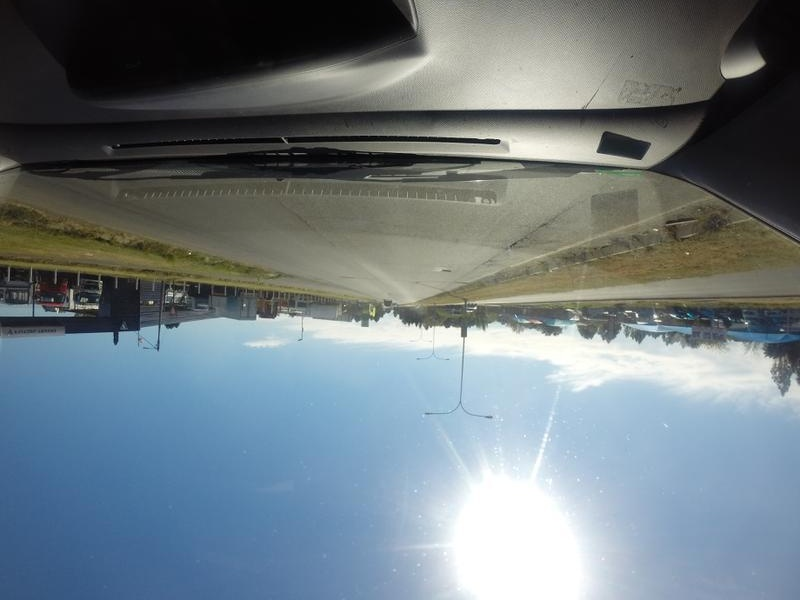pothole: (440, 268, 457, 276)
